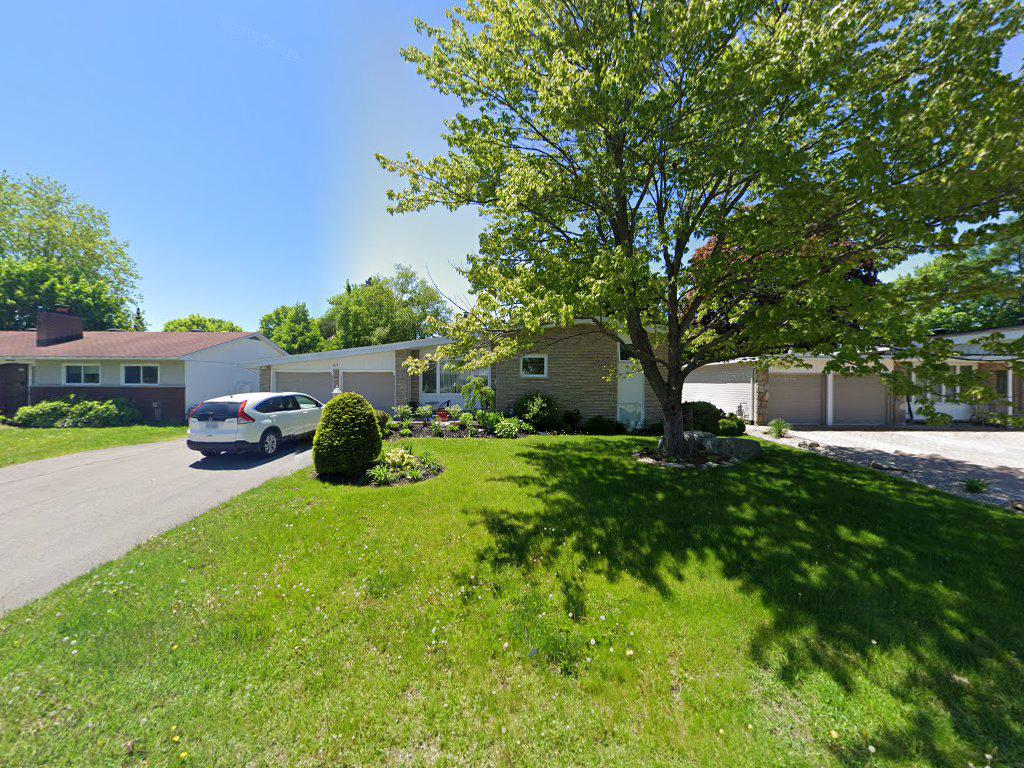trunk: (633, 317, 699, 467)
